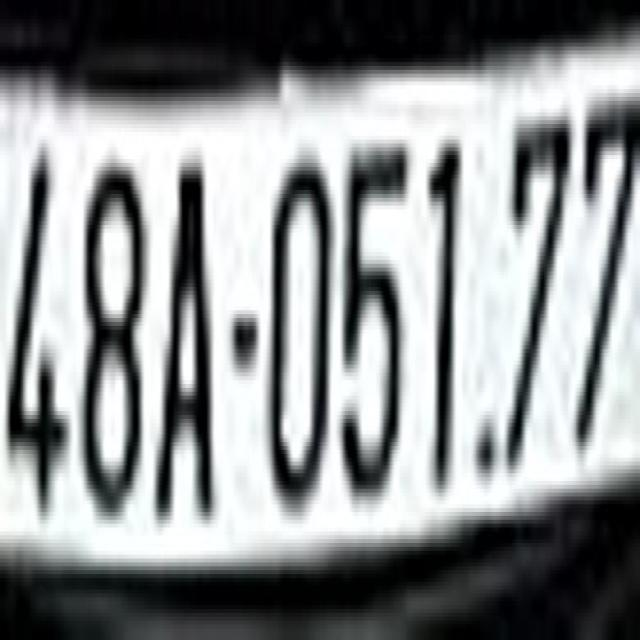0: (267, 151, 329, 524)
1: (422, 124, 462, 500)
4: (7, 144, 69, 504)
5: (339, 132, 404, 504)
7: (504, 113, 571, 473), (575, 101, 639, 458)
8: (80, 148, 144, 528)
A: (155, 159, 216, 539)
